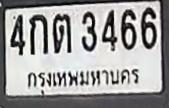3: (81, 11, 96, 51)
4: (101, 9, 116, 50), (9, 14, 24, 54)
6: (140, 6, 156, 48), (120, 8, 136, 49)
A01: (28, 14, 47, 54)
A21: (52, 13, 71, 53)
BKK: (24, 64, 141, 96)
